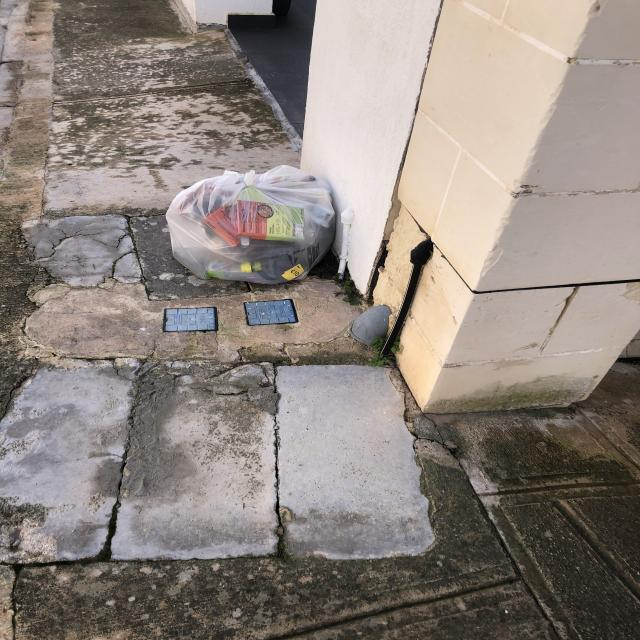Recycled Waste -Grey or Green Bag-: (166, 166, 335, 286)
